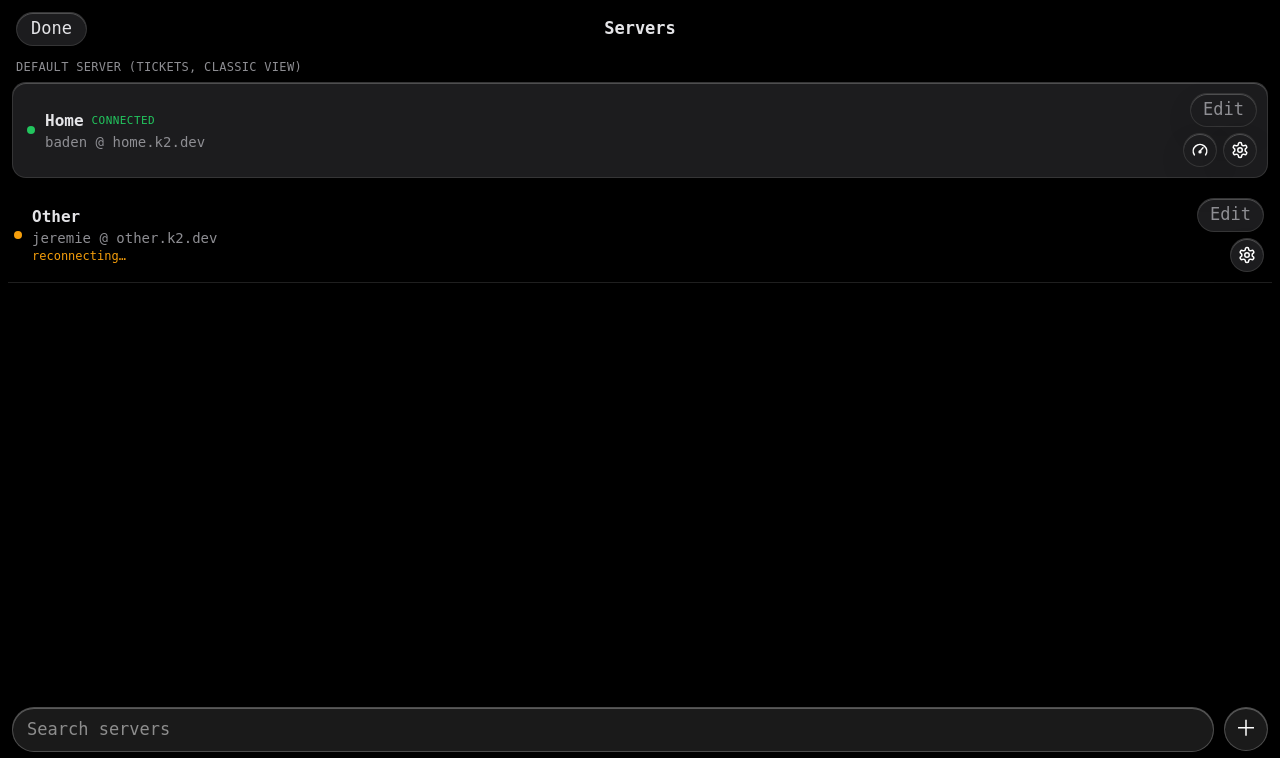
it: Servers sheet gear → Server settings › the active server shows its admin role and connected state
Click the 1st button with test id "server-settings": (1240, 150) left=1223, top=133, right=1257, bottom=167
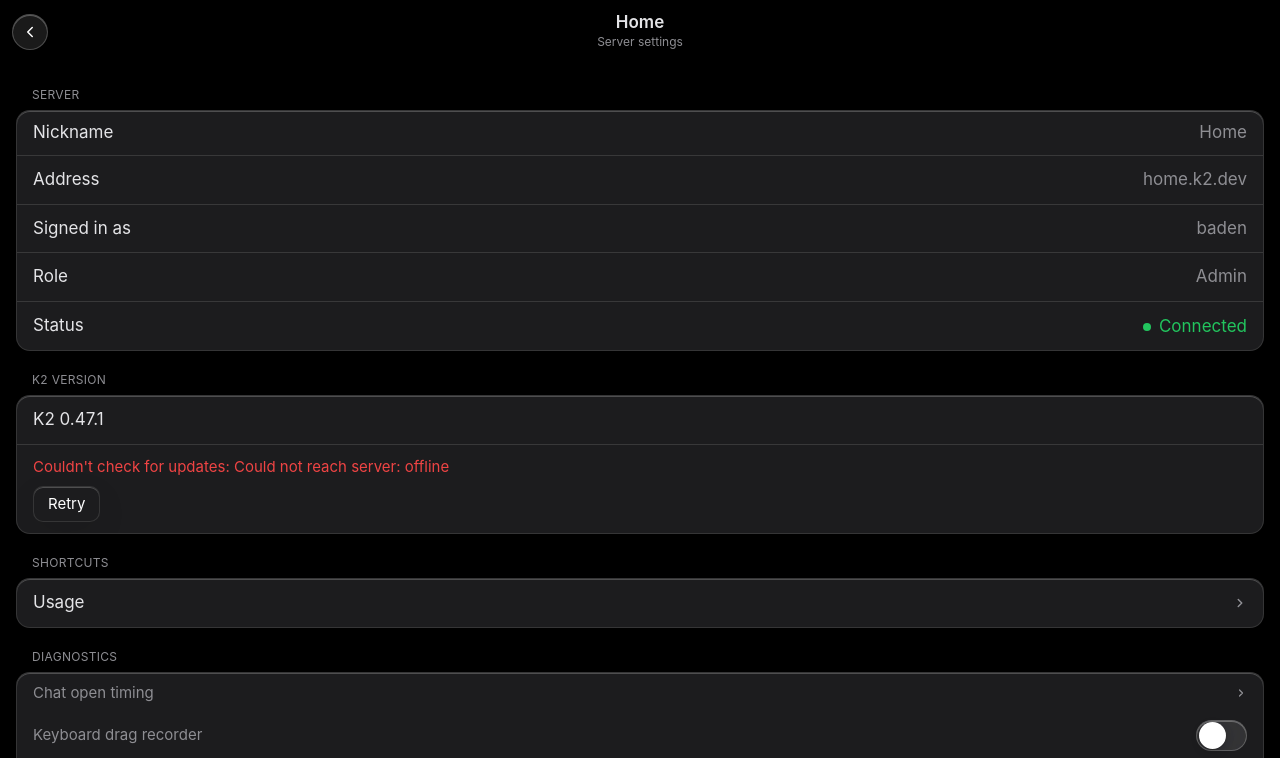
Now the text with test id "server-settings-role" reads "Admin", box left=1196, top=266, right=1247, bottom=286
Now the text with test id "server-settings-username" reads "baden", box left=1196, top=218, right=1247, bottom=238
Now the element with test id "server-settings-status" reads "Connected", box left=1159, top=316, right=1247, bottom=336
